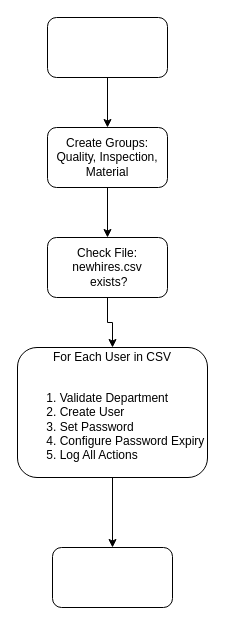
Some shapes in this 225 by 625 pixel diagram are drawn without their labels. The shapes that lost their labels are listed below. From the top down, each one's box as (x1, y1, x2, y2) in pixels, then its label:
(46, 16, 168, 78): Start Script Check: Is Root ?
(52, 546, 172, 608): Complete Log Summary
